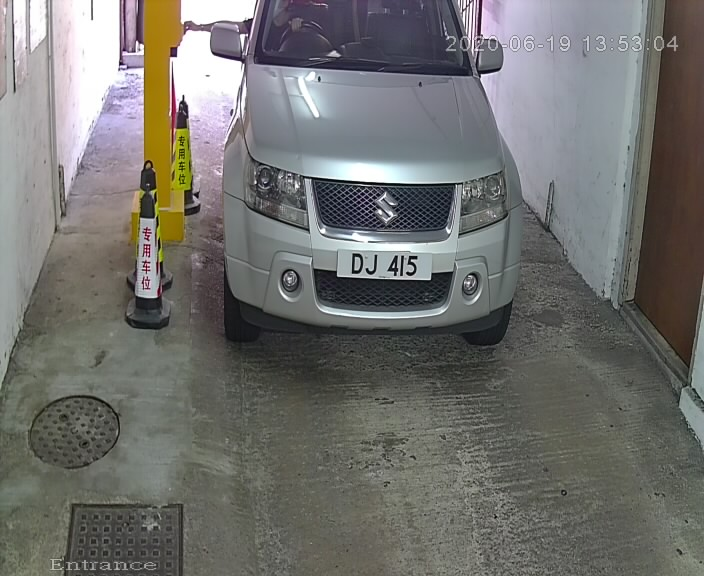privatecar: (203, 3, 529, 340)
